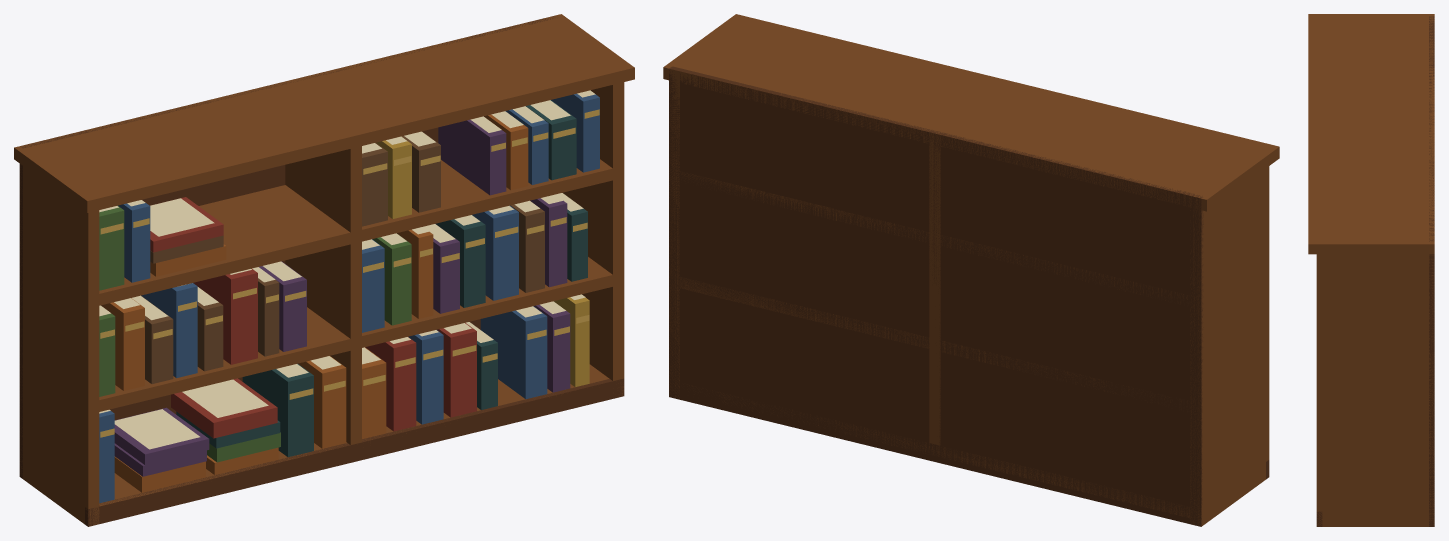
File: buecherregal_b.glb
The picture shows the model from 3 angles, left to right: view 1: azimuth 30°, elevation 25°; view 2: azimuth 150°, elevation 25°; view 3: azimuth 270°, elevation 25°; orthographic projection. The views are drawn at different scales.
Parts seen in each view (by area): view 1: buecherregal_b; view 2: buecherregal_b; view 3: buecherregal_b.
Boxes of the visible parts, x1,y1,x2,y2 form: buecherregal_b: (14,14,634,526); buecherregal_b: (663,14,1279,526); buecherregal_b: (1308,14,1434,526).
Size of the model in its own units: 1.94 by 1.12 by 0.45.
